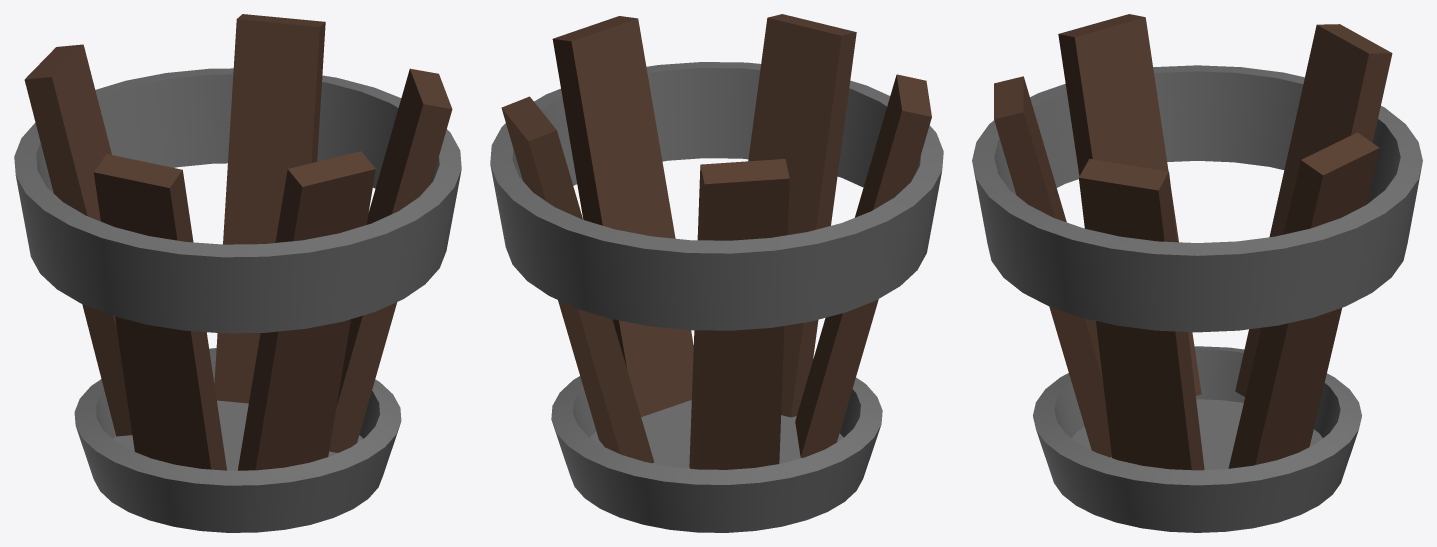
File: candlestick.fbx
3 views of the same model, side by side, from view 1: azimuth 30°, elevation 25°; view 2: azimuth 150°, elevation 25°; view 3: azimuth 270°, elevation 25° (orthographic).
Visible parts, largest first — view 1: Cube; view 2: Cube; view 3: Cube.
Part boxes in pixels (x1,y1,x2,y2): Cube: (14,14,461,532); Cube: (490,14,943,532); Cube: (972,14,1422,532).
Size of the model in its own units: 200 by 188 by 200.
